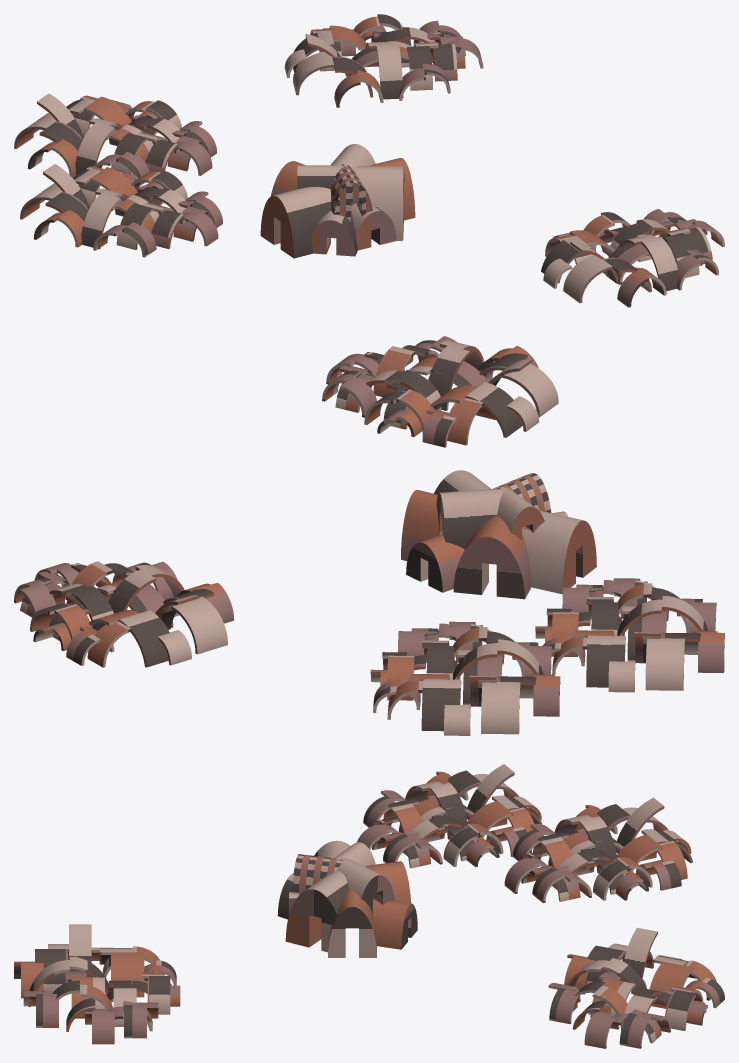
3 views of the same model, one above another, from view 1: azimuth 30°, elevation 25°; view 2: azimuth 150°, elevation 25°; view 3: azimuth 270°, elevation 25° (orthographic). The views are drawn at different scales.
Visible parts, largest first — view 1: Raummasse (1), default (3), default (2), default (1), Raum Folge Prusa2 mm; view 2: Raummasse (1), default (1), Raum Folge Prusa2 mm, default (2), default (3); view 3: default (2), Raum Folge Prusa2 mm, default (1), Raummasse (1), default (3).
Boxes of the visible parts, x1,y1,x2,y2 form: Raummasse (1): (260, 144, 415, 258); default (3): (20, 164, 222, 257); default (2): (14, 93, 216, 185); default (1): (541, 209, 724, 307); Raum Folge Prusa2 mm: (284, 14, 483, 107); Raummasse (1): (401, 470, 596, 599); default (1): (322, 336, 558, 447); Raum Folge Prusa2 mm: (14, 561, 234, 667); default (2): (370, 621, 560, 735); default (3): (535, 578, 724, 692); default (2): (504, 797, 692, 902); Raum Folge Prusa2 mm: (548, 927, 724, 1048); default (1): (14, 924, 180, 1044); Raummasse (1): (277, 840, 417, 957); default (3): (357, 764, 541, 868).
Size of the model in its own units: 0.5391 by 0.0638 by 0.6294.
Materials: 1 (1 with a texture image).
